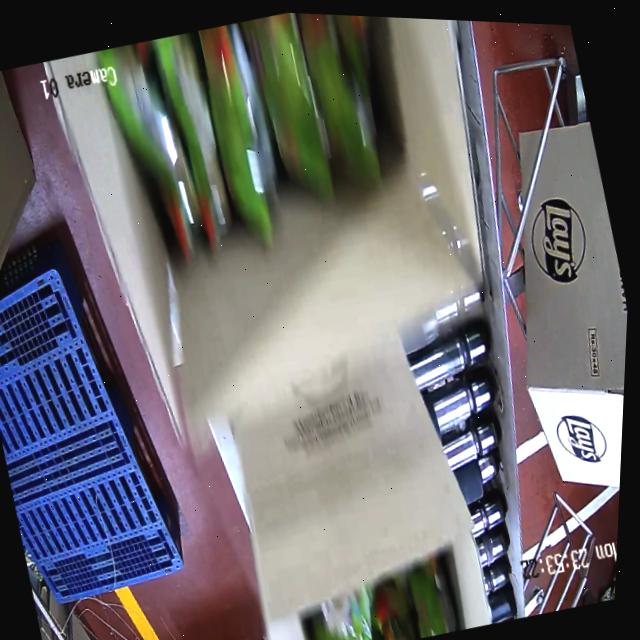YOGURT_HERB: (97, 5, 412, 250)
